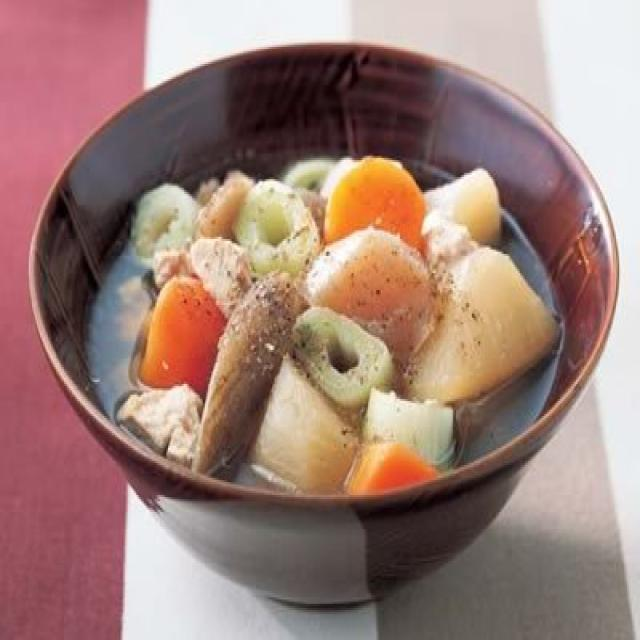蔬菜料理: (28, 38, 622, 608)
